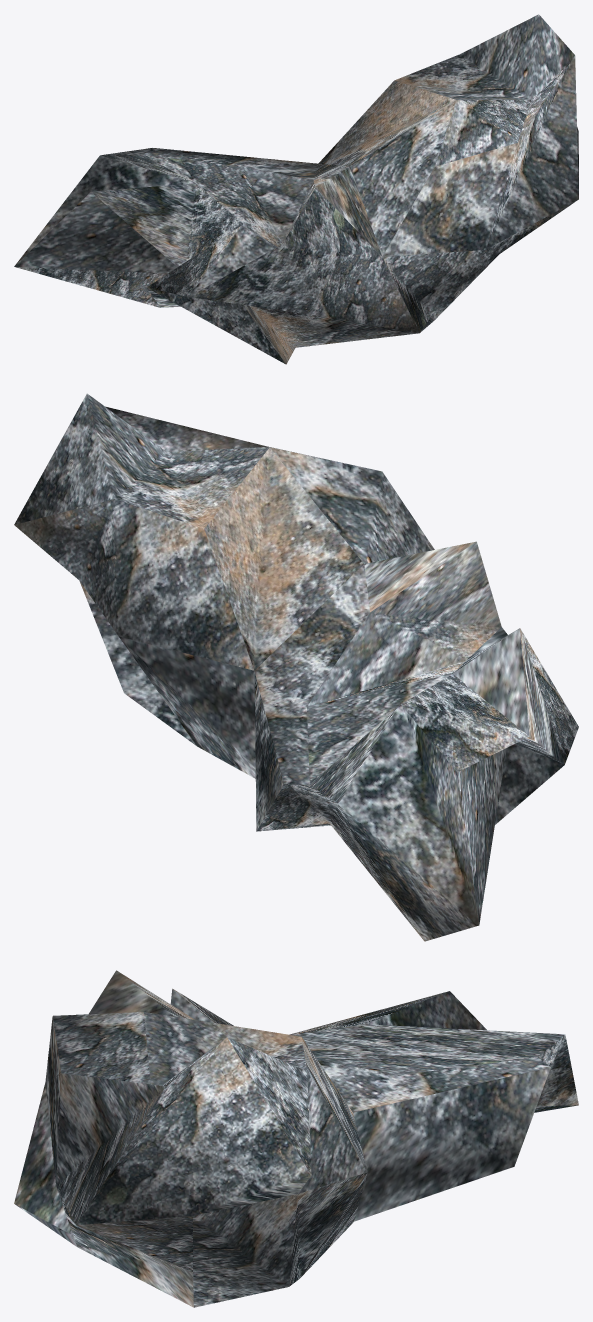
Rendered from rock3.fbx.
3 renders of one model, top to bottom at view 1: azimuth 30°, elevation 25°; view 2: azimuth 150°, elevation 25°; view 3: azimuth 270°, elevation 25°, orthographic. The views are drawn at different scales.
Parts seen in each view (by area): view 1: Cube; view 2: Cube; view 3: Cube.
Boxes of the visible parts, bbox=[...] form: Cube: bbox=[14, 14, 578, 364]; Cube: bbox=[14, 393, 578, 941]; Cube: bbox=[14, 970, 578, 1307].
Bounding box in the file's own units: 167 × 90.25 × 133.
